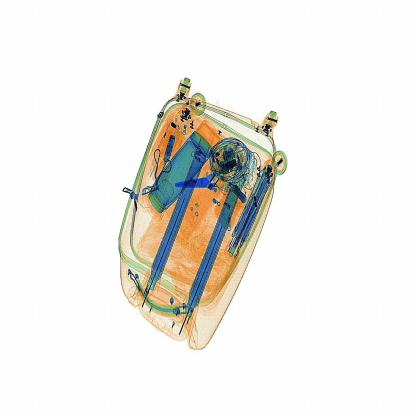gun: (174, 157, 246, 217)
